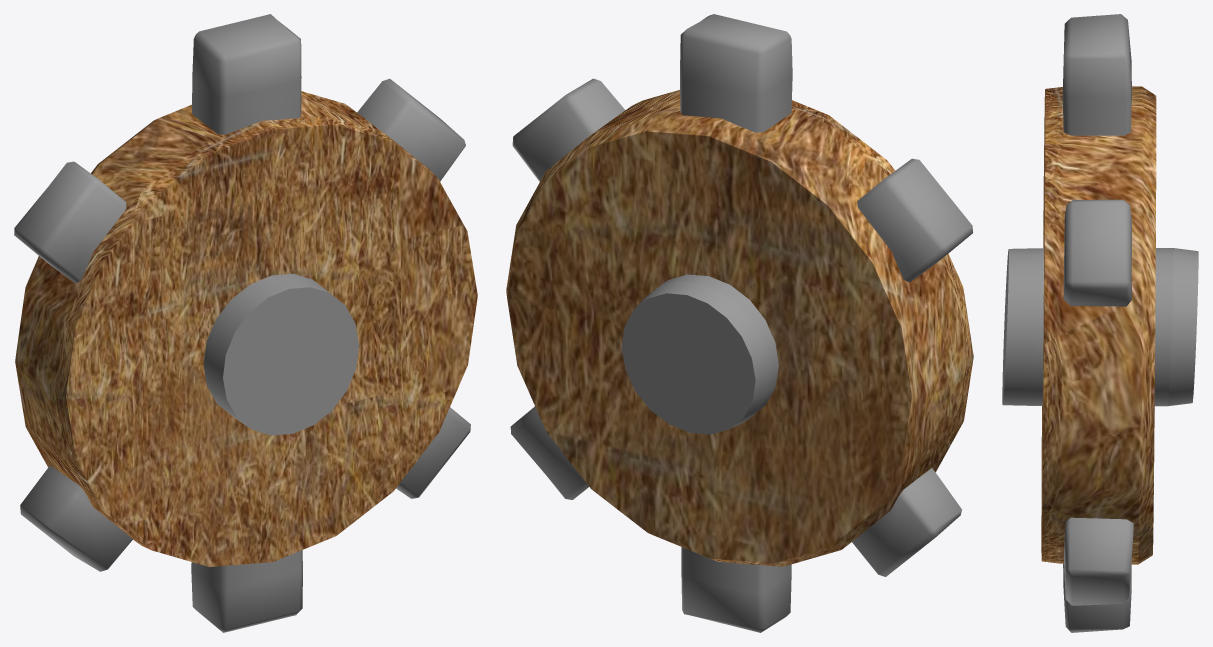
File: RotaRotante.FBX
3 renders of one model, left to right at view 1: azimuth 30°, elevation 25°; view 2: azimuth 150°, elevation 25°; view 3: azimuth 270°, elevation 25°, orthographic.
Parts seen in each view (by area): view 1: RotaRotante; view 2: RotaRotante; view 3: RotaRotante.
Part boxes in pixels (<box>): RotaRotante: <box>14,14,477,632</box>; RotaRotante: <box>506,14,973,632</box>; RotaRotante: <box>1002,14,1198,632</box>.
Size of the model in its own units: 159 by 205 by 62.55.
2 materials, 1 textured.
